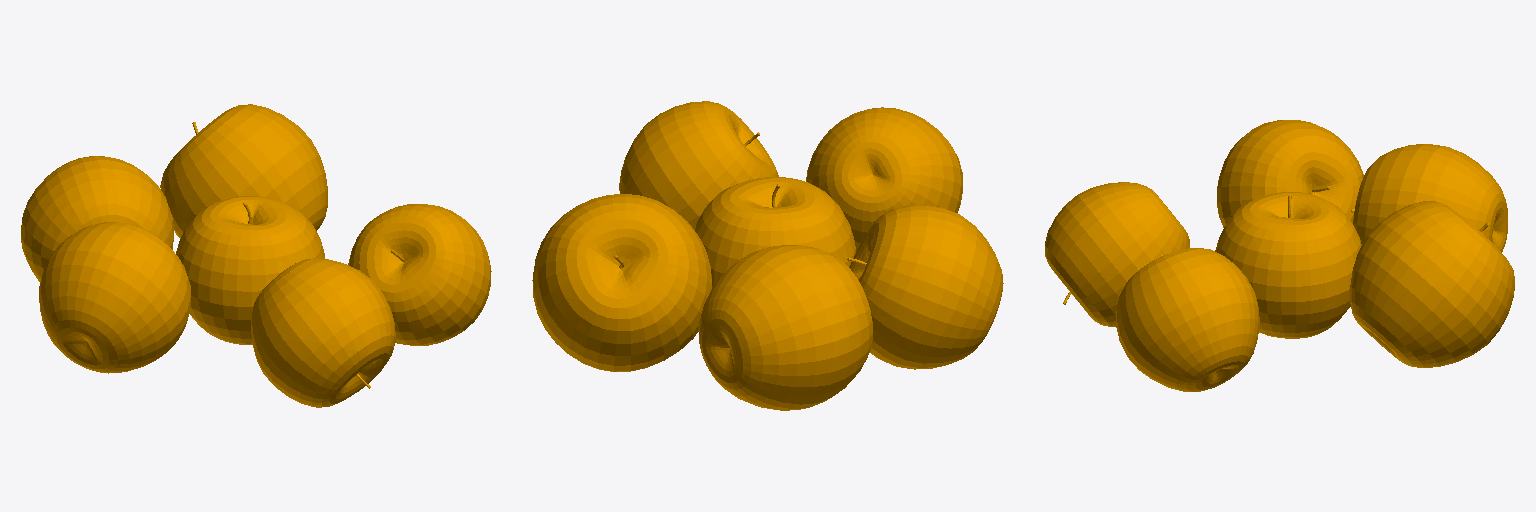
URDF robot description (apples):
<robot name="apples">
  <link name="apples">
    <inertial>
      <origin xyz="0 0 0.0145"/>
      <mass value="0.1" />
      <inertia  ixx="0.0001" ixy="0.0"  ixz="0.0"  iyy="0.0001"  iyz="0.0"  izz="0.0001" />
    </inertial>
    <visual>
      <origin xyz="0 0 0.0145"/>
      <geometry>        
     <mesh filename="apples.dae" scale="1 1 1"/>
    </geometry>
    </visual>
    <collision>
      <origin xyz="0 0 0.0145"/>
      <geometry>
        <box size="0.029 0.029 0.029"/>
      </geometry>
    </collision>
  </link>
  <gazebo reference="apples">
    <material>Gazebo/Blue</material>
  </gazebo>
</robot>

--- What the picture shows (computed from the rendered views, not written in the file) ---
The picture shows the robot from 3 angles, left to right: view 1: azimuth 30°, elevation 25°; view 2: azimuth 150°, elevation 25°; view 3: azimuth 270°, elevation 25°; orthographic projection.
Model apples with 1 links and 0 joints (none), rooted at apples, posed all joints at 0.
Links seen in each view (by area): view 1: apples; view 2: apples; view 3: apples.
Boxes of the visible links, x1,y1,x2,y2 form: apples: [21, 104, 491, 407]; apples: [532, 101, 1003, 410]; apples: [1045, 120, 1514, 391].
Size in the robot's own frame: 0.2085 by 0.2246 by 0.0787 metres.
1 mesh visuals loaded from 1 distinct referenced files (1 Collada DAE).